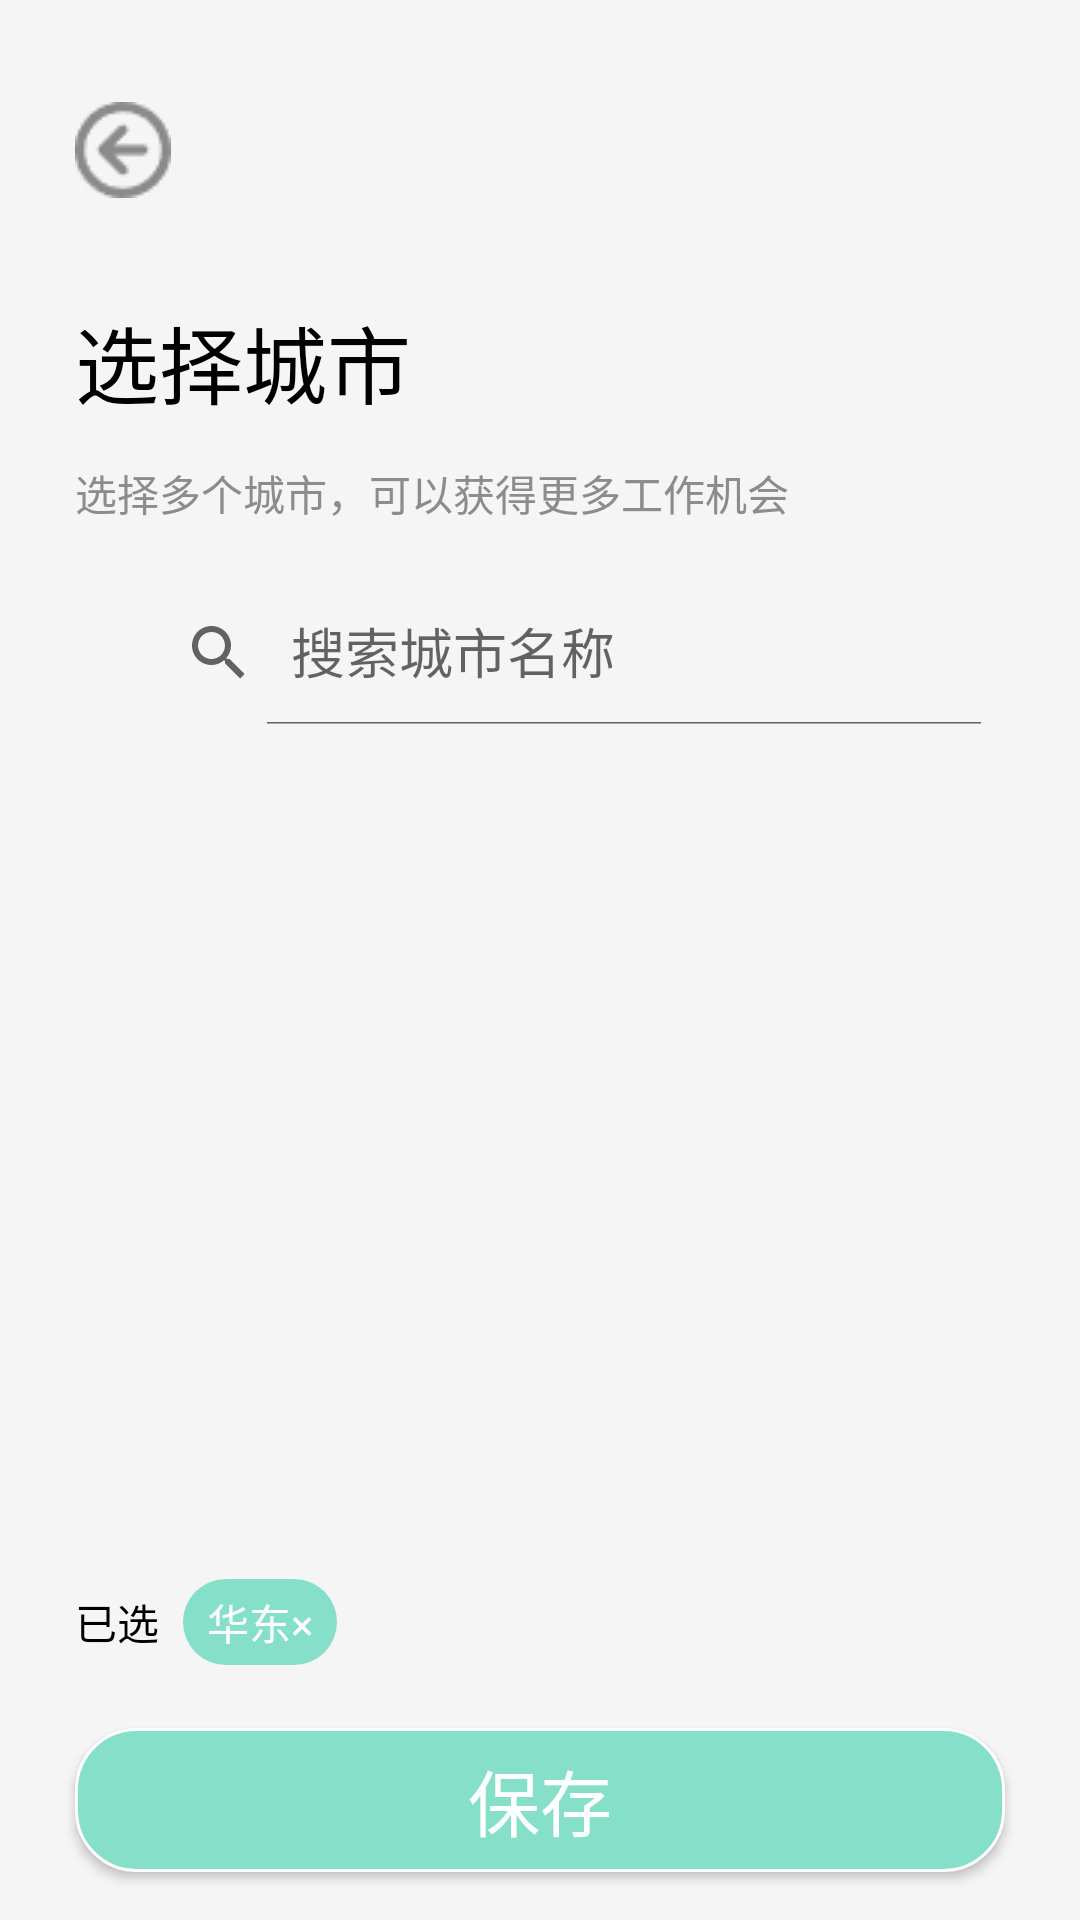

Screen size 1080 × 1920. Icon name, then its center in pixels as [x,y]:
fanjhui: [123,150]
